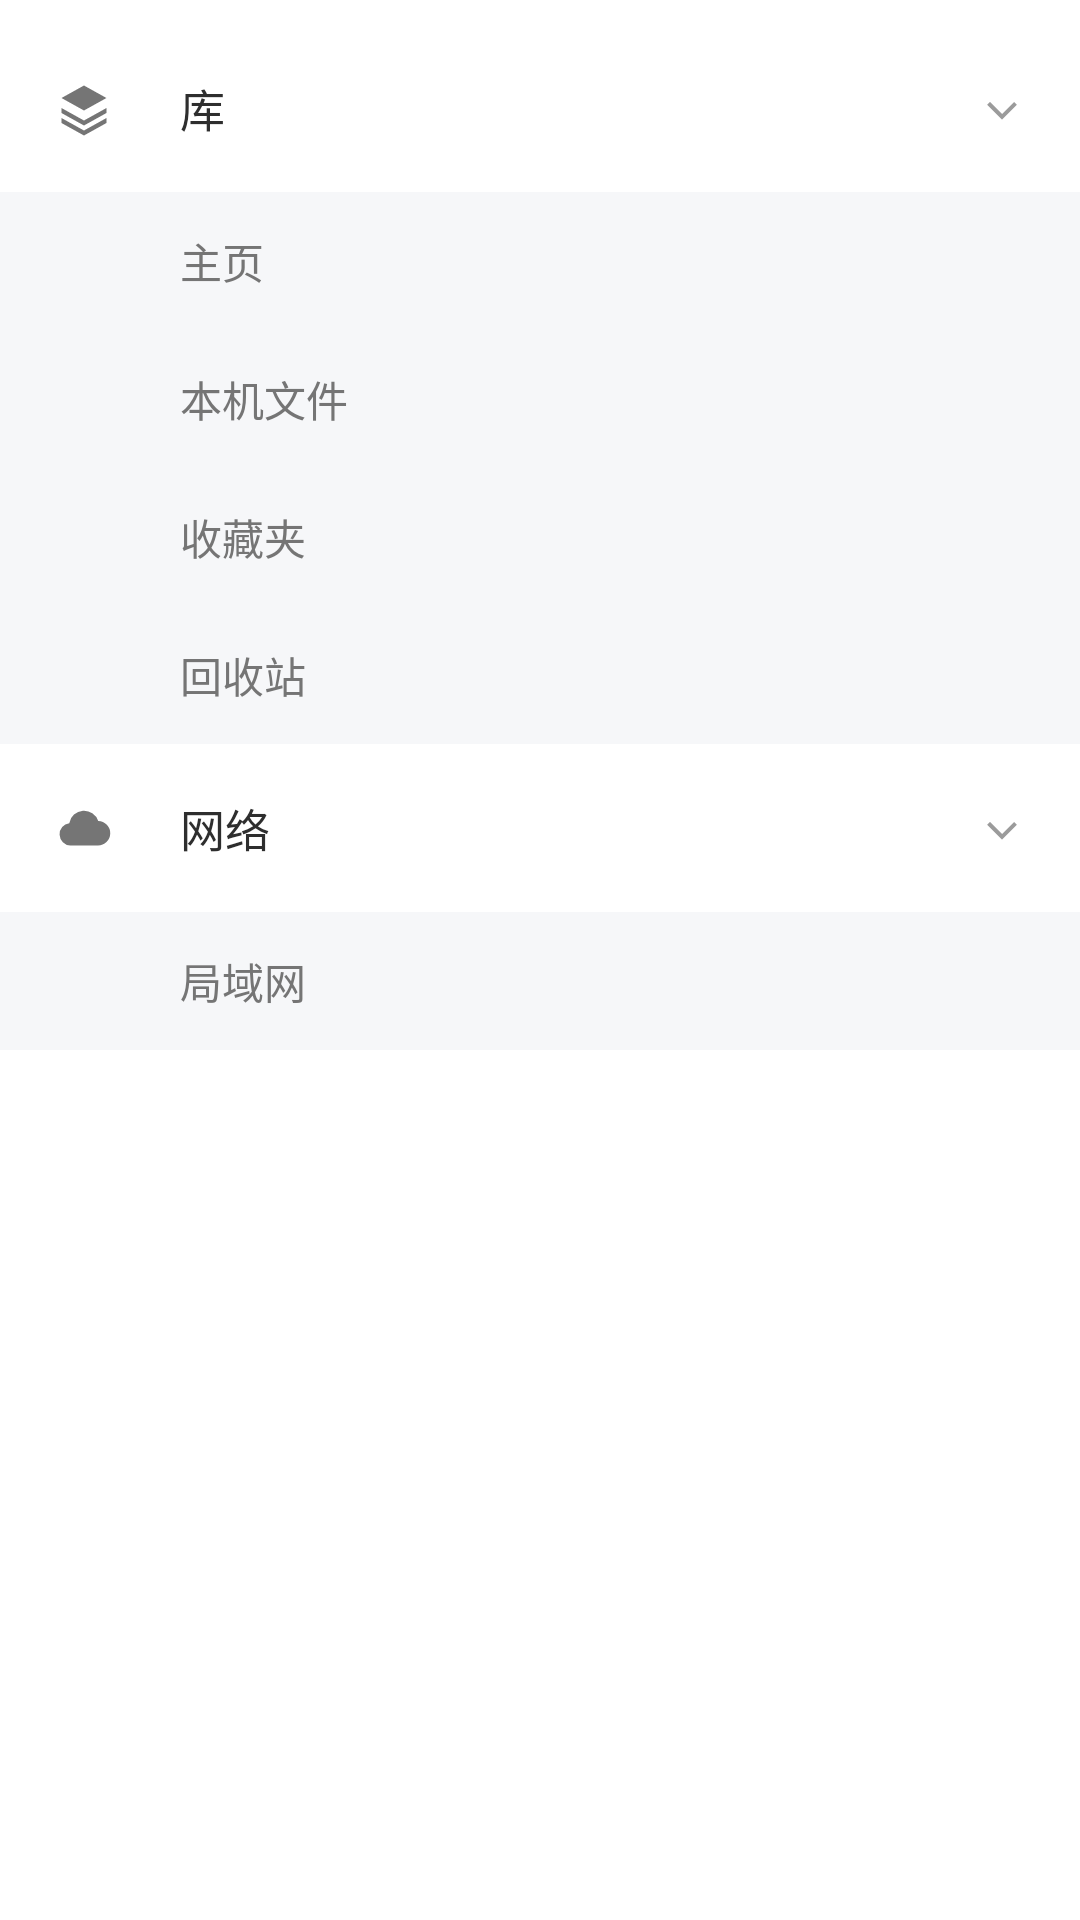

Named icons in this screenshot (1080w x 1920h) and their bounding boxes, (x1, y1, x2, y2):
chevron down: (987, 102, 1017, 119), (987, 822, 1017, 839)
cloud: (59, 810, 111, 846)
